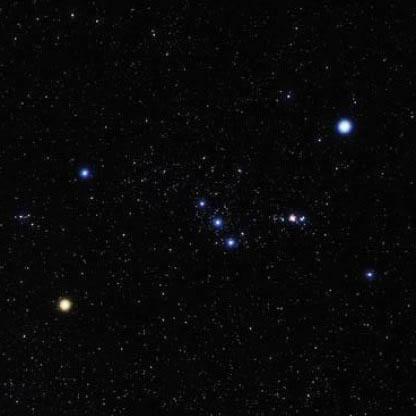Orion: (49, 288, 84, 320), (77, 159, 104, 192), (357, 254, 384, 284), (182, 192, 215, 212), (333, 112, 357, 139), (199, 211, 229, 231), (215, 235, 242, 253)
